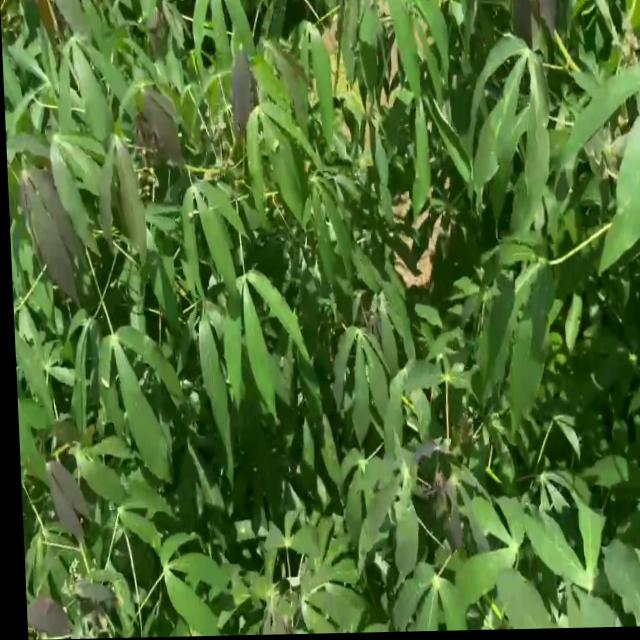Mosca: (94, 372, 121, 411), (212, 367, 239, 396), (265, 351, 294, 377), (266, 132, 285, 160)
